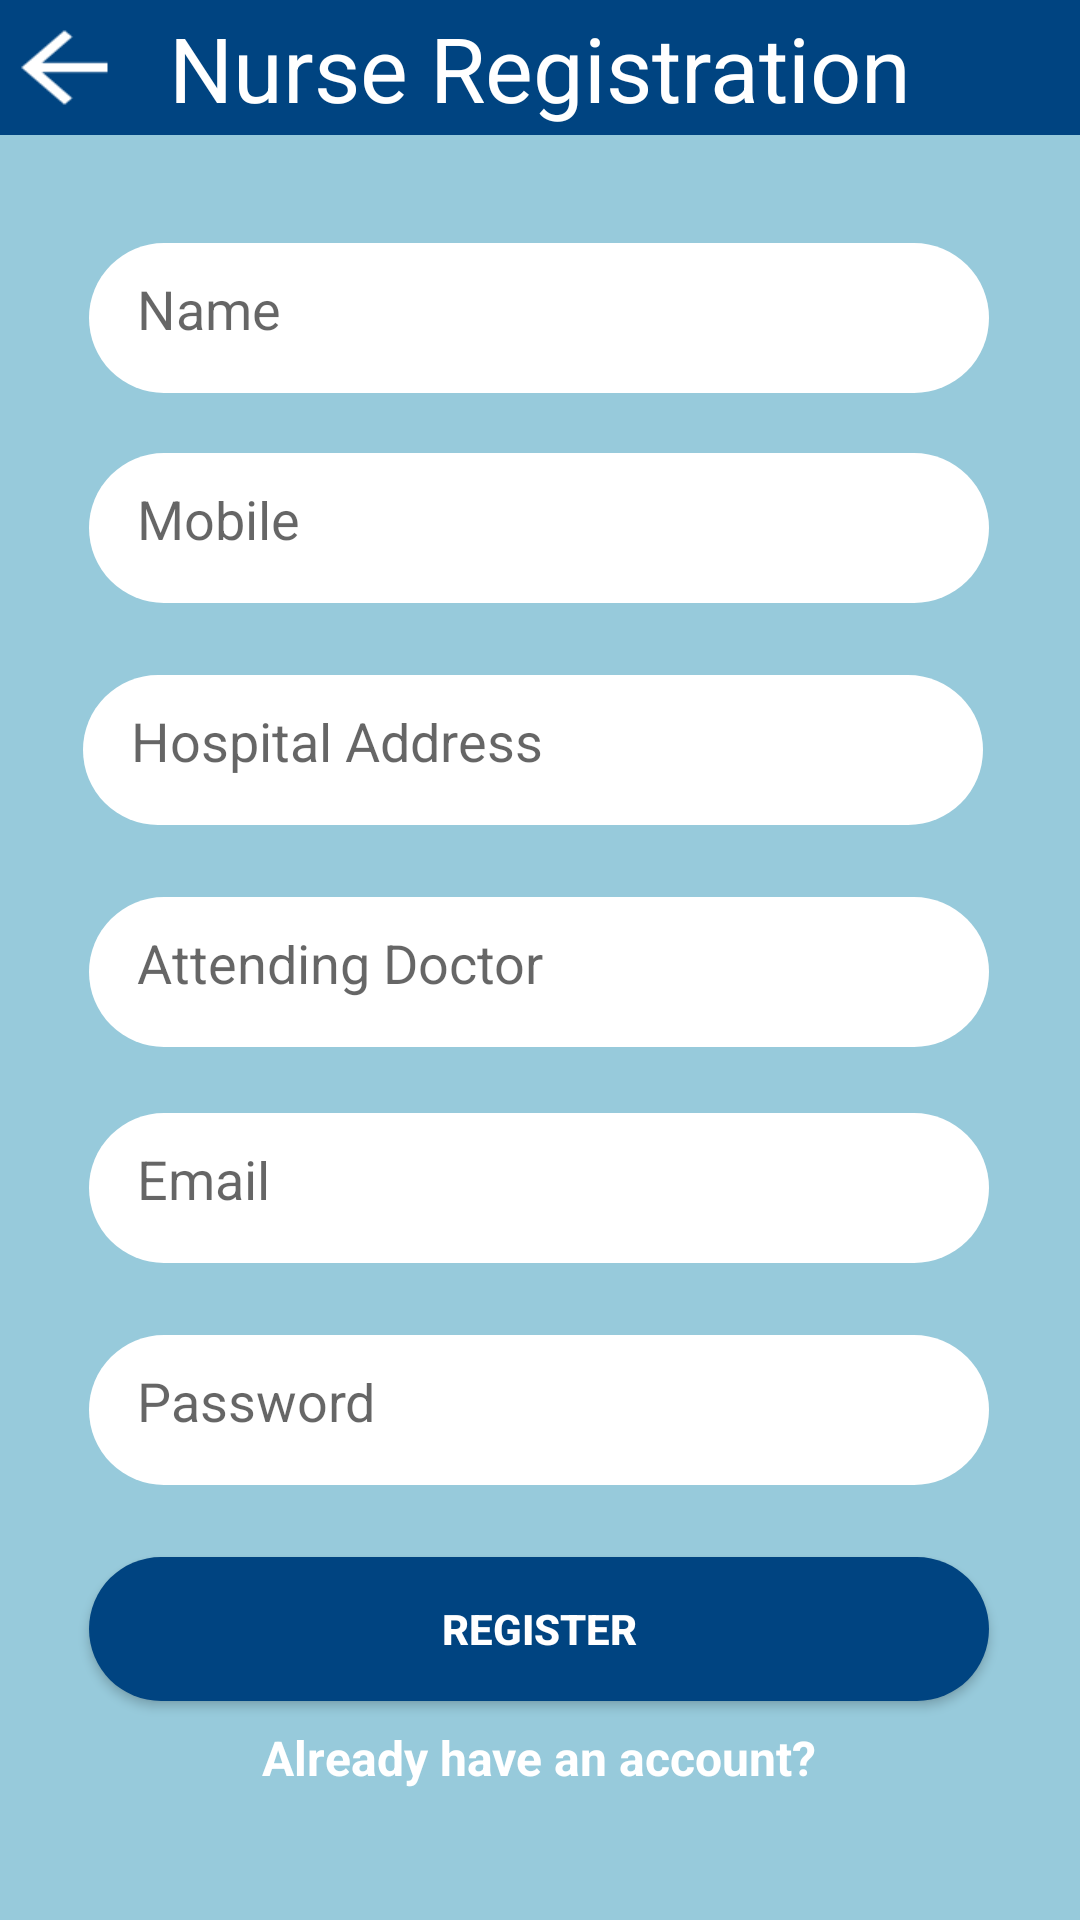

Named icons in this screenshot (1080px×1920px) and their centers, (x=x, y=y):
back: (x=64, y=67)
